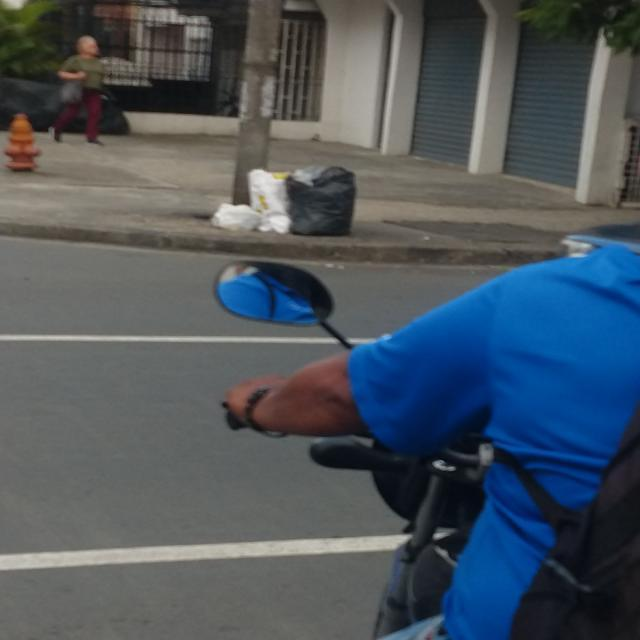Trashbag: (288, 172, 358, 230)
